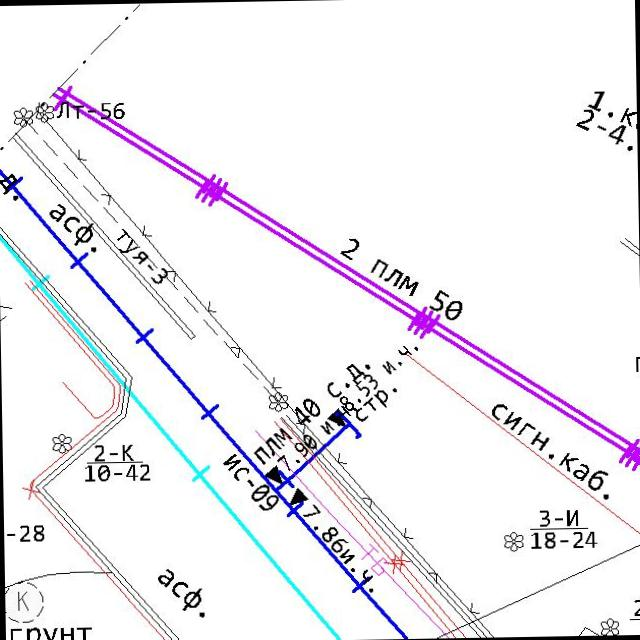asphalt: (157, 566, 206, 620), (48, 202, 98, 254)
bushes: (12, 105, 34, 128), (502, 530, 524, 553), (50, 433, 72, 455), (268, 391, 288, 412), (35, 101, 54, 122)
mark: (288, 485, 310, 507), (262, 464, 283, 486), (325, 406, 346, 428)
